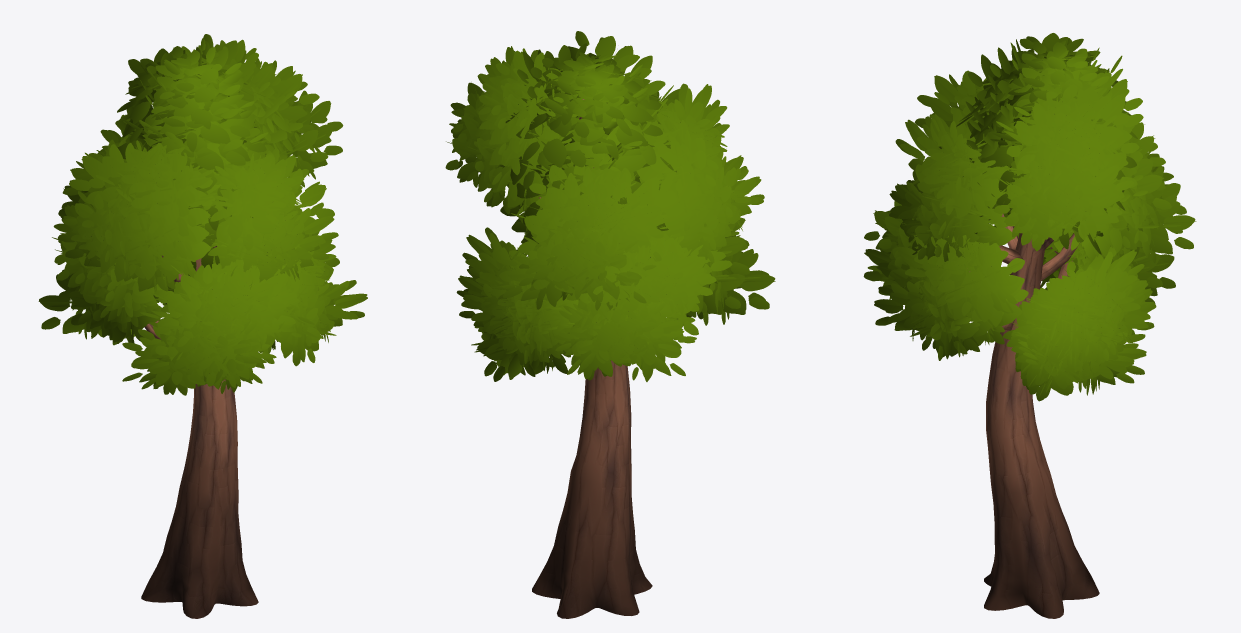
The model's file is CommonTree_1.glb.
The picture shows the model from 3 angles, left to right: view 1: azimuth 30°, elevation 25°; view 2: azimuth 150°, elevation 25°; view 3: azimuth 270°, elevation 25°; orthographic projection. The views are drawn at different scales.
Parts seen in each view (by area): view 1: CommonTree_1; view 2: CommonTree_1; view 3: CommonTree_1.
Boxes of the visible parts, x1,y1,x2,y2 form: CommonTree_1: (38, 34, 367, 618); CommonTree_1: (445, 31, 775, 618); CommonTree_1: (863, 33, 1196, 618).
Bounding box in the file's own units: 4.31 × 7.26 × 4.58.
2 materials, 2 textured.
